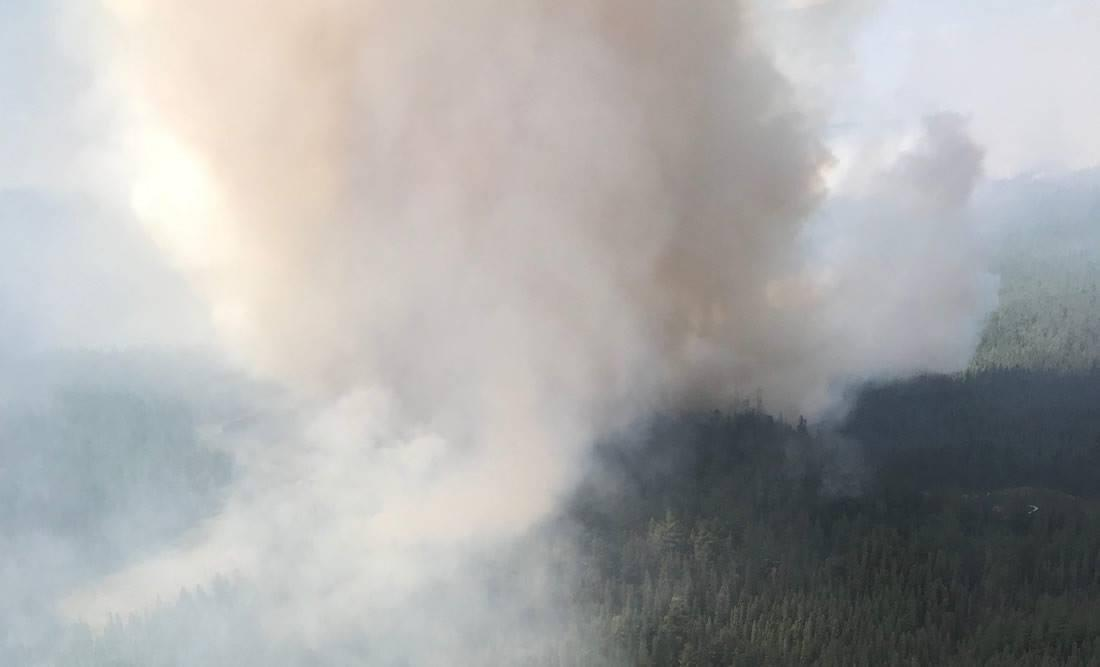smoke: (152, 7, 979, 538)
